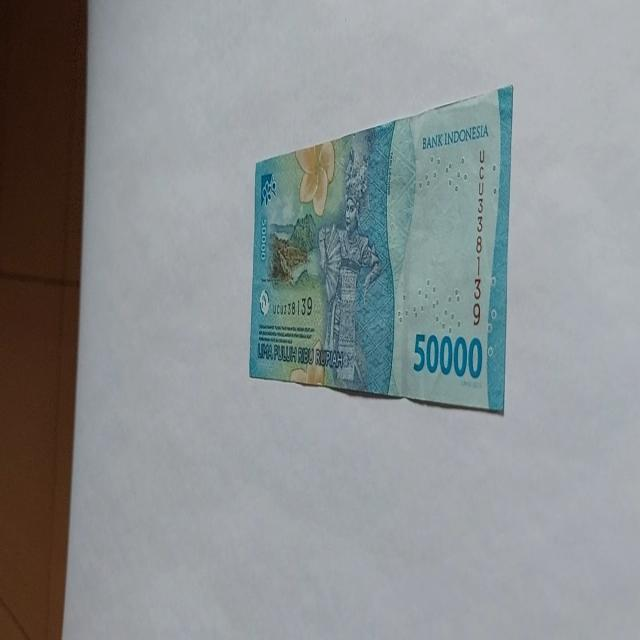lima puluh ribu rupiah: (248, 82, 514, 416), (420, 121, 490, 150)
